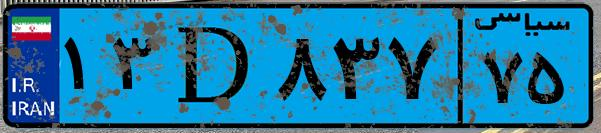1: (57, 26, 110, 100)
3: (330, 28, 385, 110), (110, 28, 158, 98)
5: (525, 38, 570, 115)
7: (385, 28, 445, 110), (475, 38, 525, 113)
8: (270, 28, 330, 110)
D: (158, 12, 270, 120)
